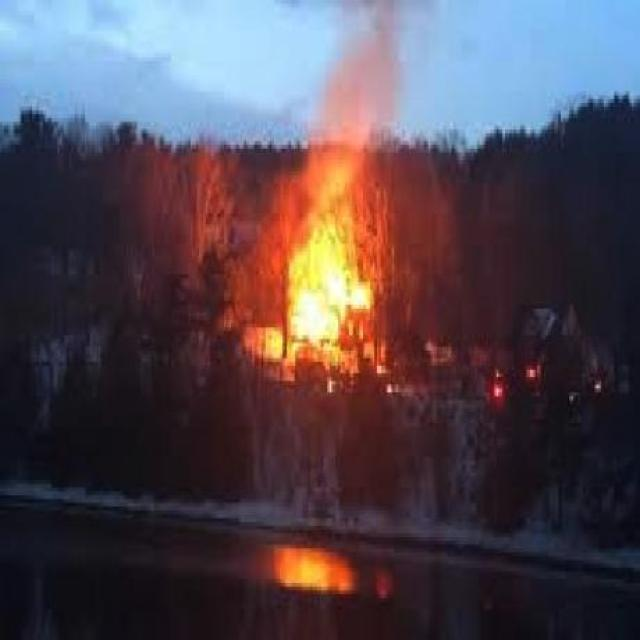Fire: (278, 213, 397, 360)
Smoke: (301, 10, 422, 156)
